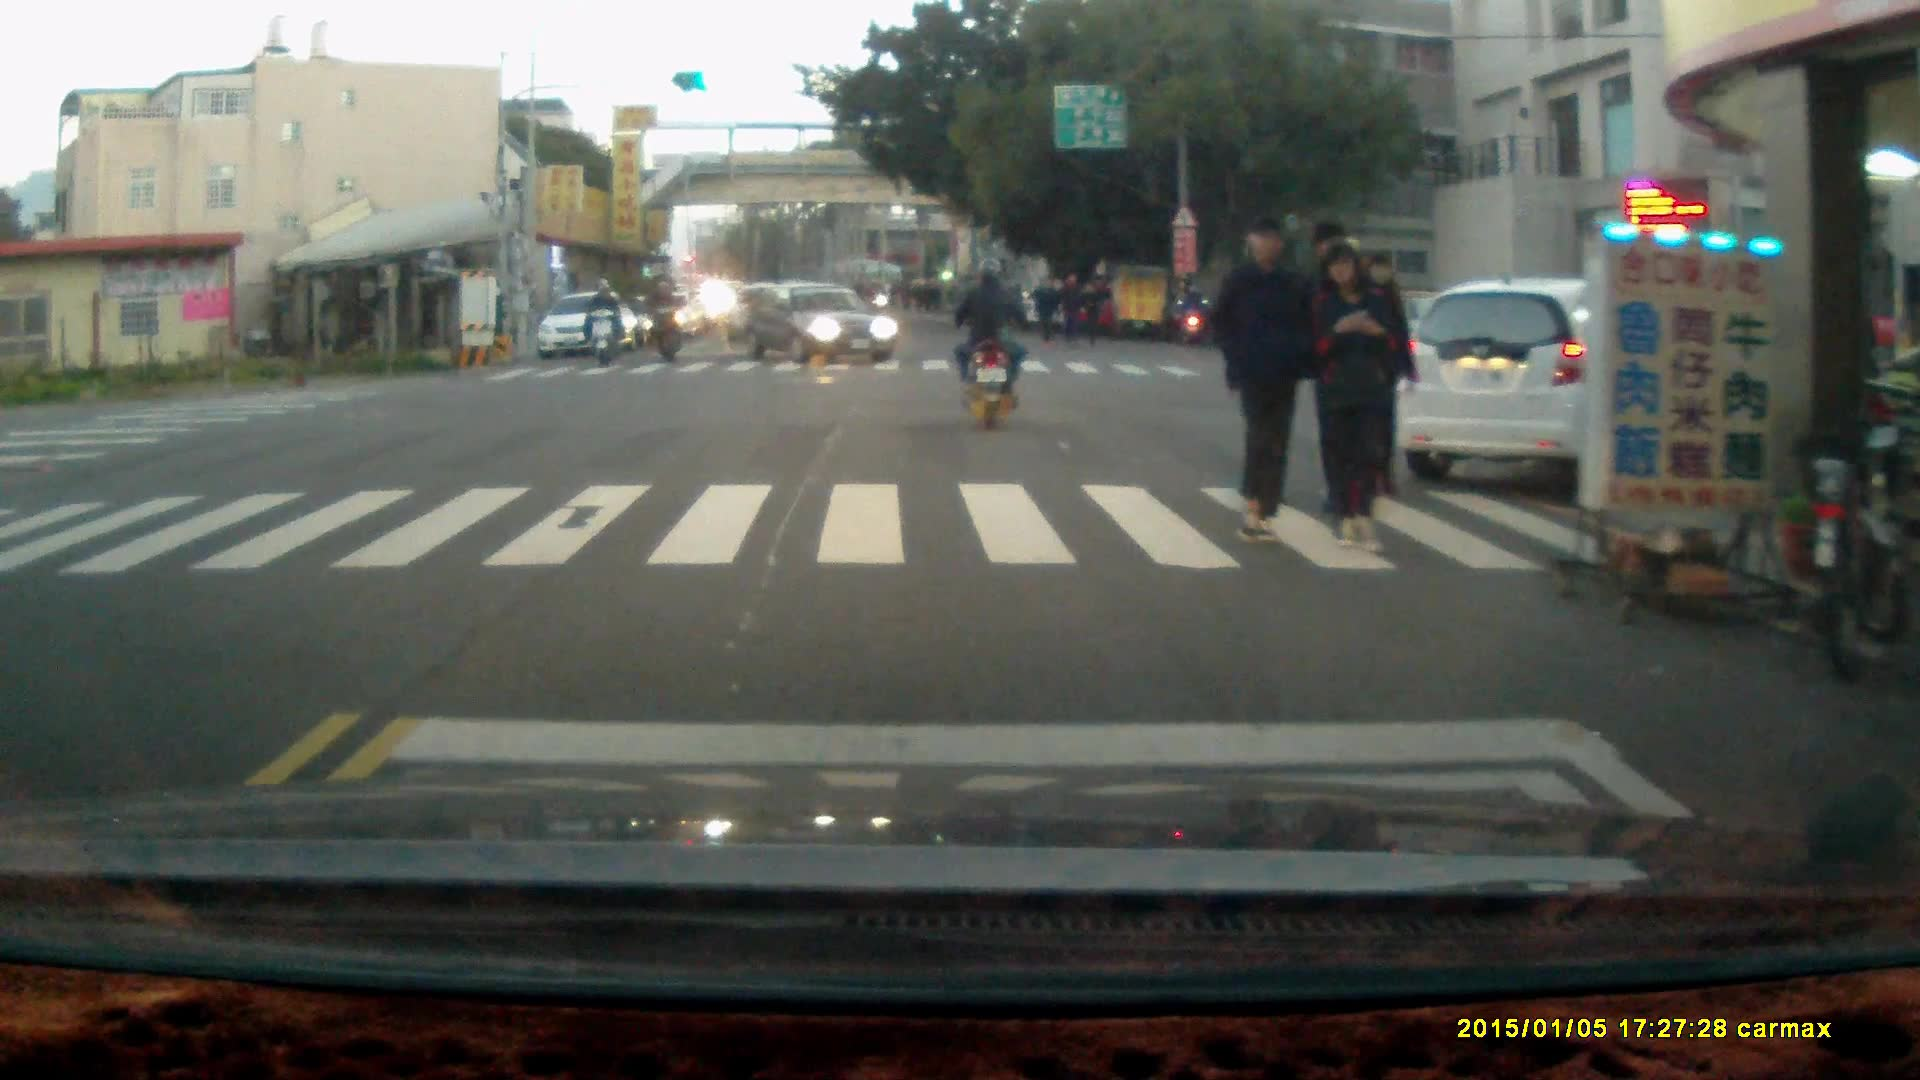pedestrian: (1212, 213, 1318, 547), (1306, 241, 1393, 553), (1075, 280, 1105, 350), (1056, 271, 1083, 350), (1030, 274, 1057, 345)
rider: (952, 254, 1022, 433), (645, 279, 687, 369), (583, 275, 622, 366), (1172, 286, 1212, 350)
vehicle: (1400, 277, 1848, 494), (739, 280, 899, 372), (538, 296, 640, 366)
